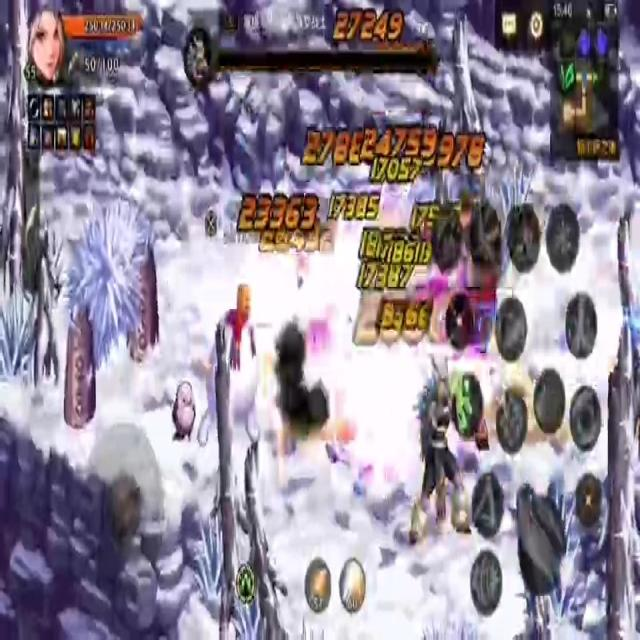player: (198, 282, 261, 464)
